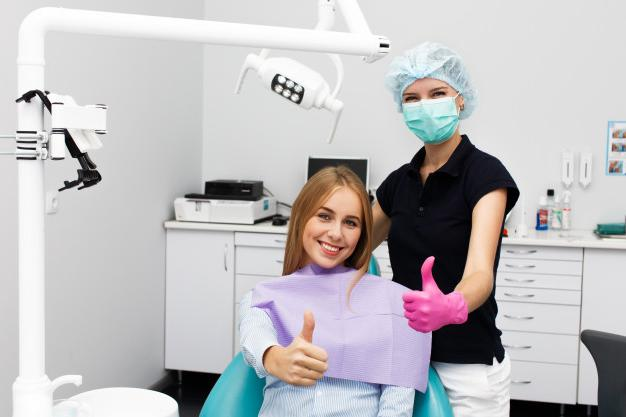thumbsup: (289, 309, 328, 387), (402, 255, 440, 333)
